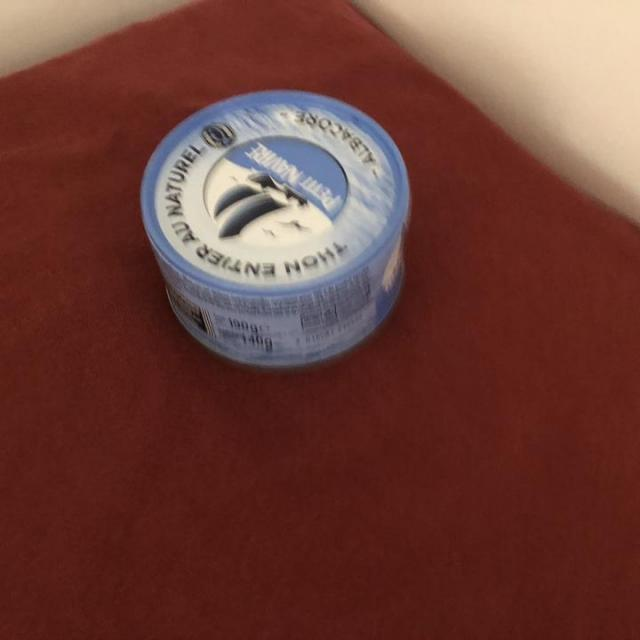recyclable: (136, 85, 420, 386)
